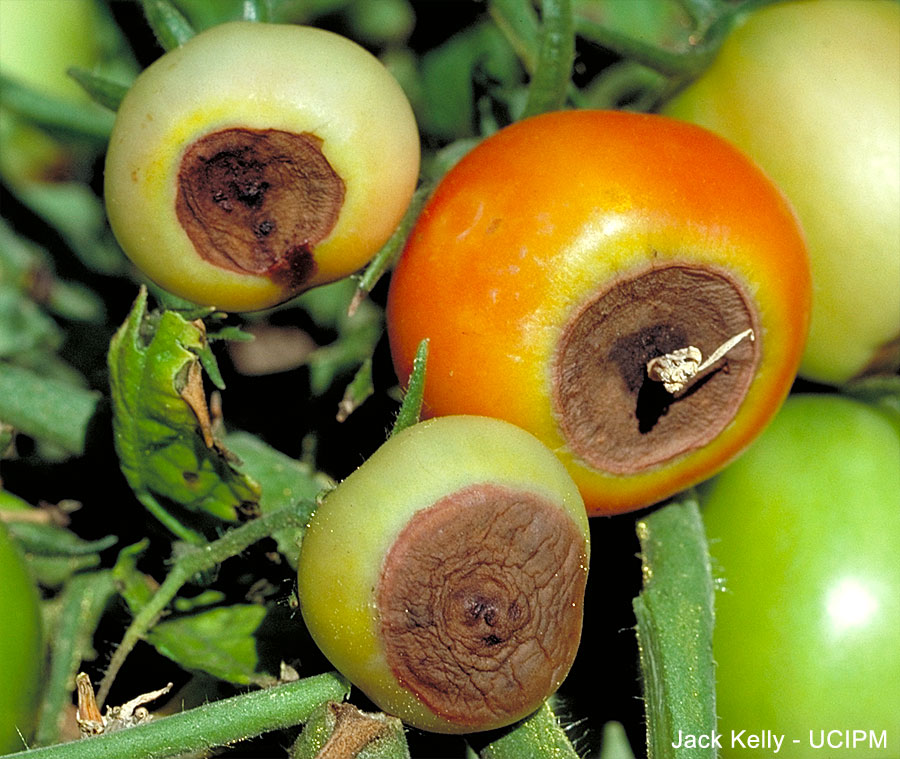blossom_rotw: (504, 226, 767, 464), (374, 470, 589, 713), (146, 96, 366, 303)
